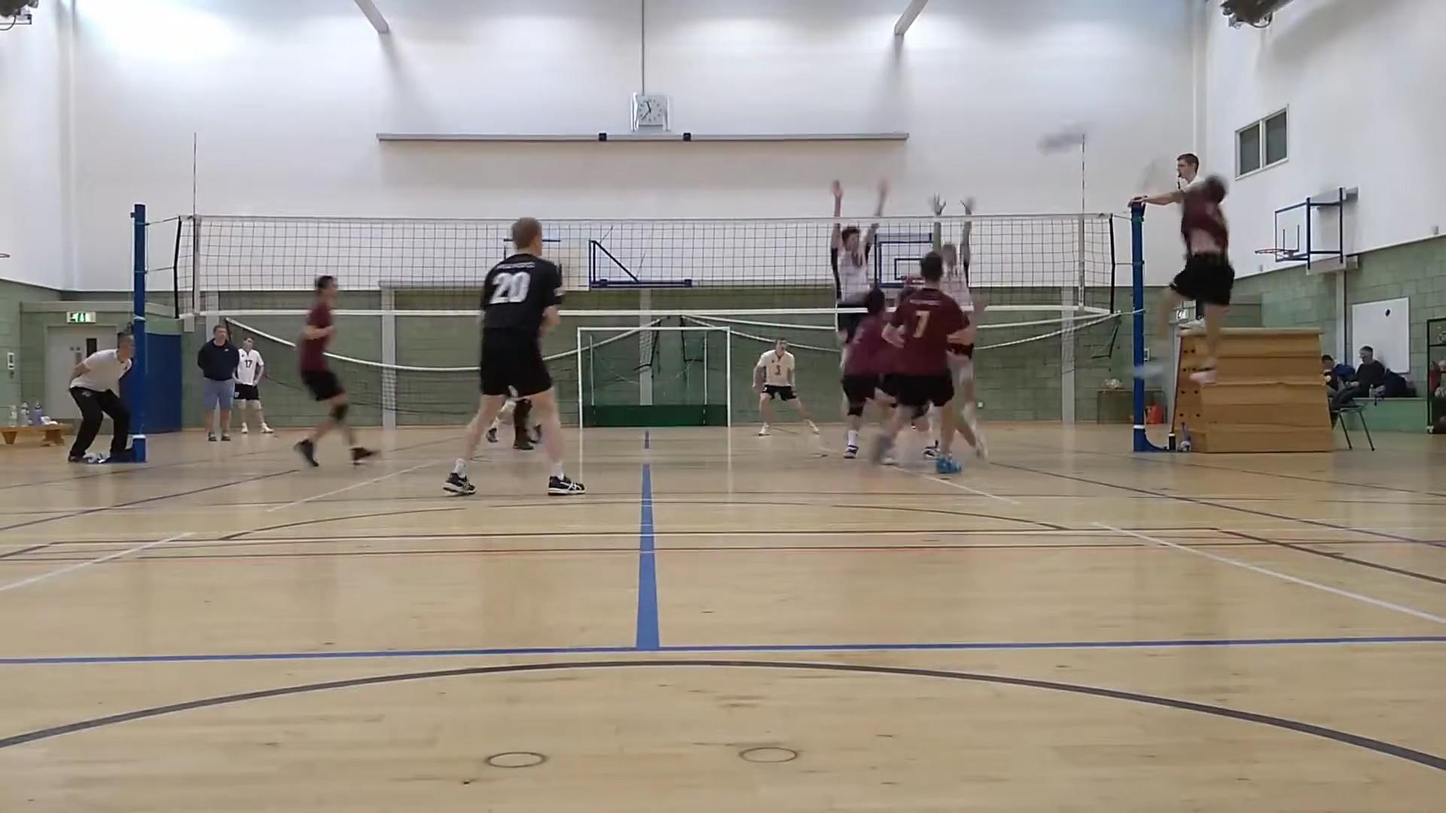Attack: (1122, 161, 1240, 386)
Block: (921, 182, 985, 448), (808, 167, 889, 334)
Player: (444, 218, 584, 495), (873, 251, 974, 473), (294, 275, 374, 466), (841, 290, 893, 458), (753, 339, 819, 436), (485, 394, 539, 450)
